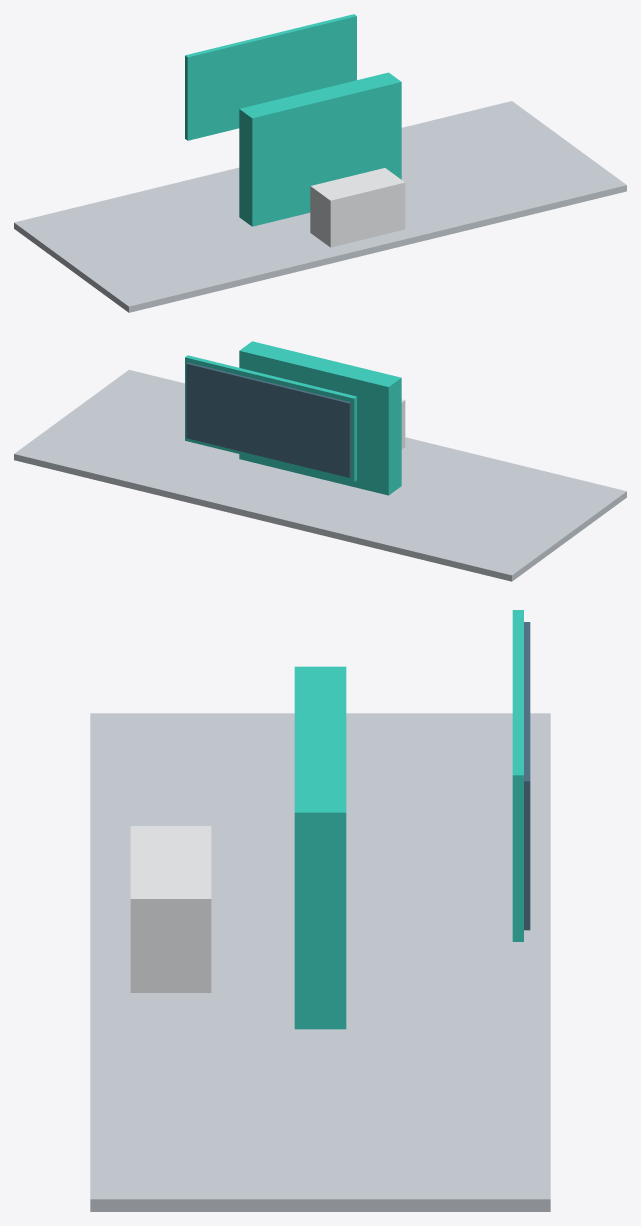
3 views of the same model, one above another, from view 1: azimuth 30°, elevation 25°; view 2: azimuth 150°, elevation 25°; view 3: azimuth 270°, elevation 25° (orthographic). The views are drawn at different scales.
Visible parts, largest first — view 1: Exhibition Booth Concept; view 2: Exhibition Booth Concept; view 3: Exhibition Booth Concept.
Part boxes in pixels (left/top/right/bottom): Exhibition Booth Concept: left=14, top=14, right=626, bottom=312; Exhibition Booth Concept: left=14, top=341, right=626, bottom=581; Exhibition Booth Concept: left=90, top=610, right=550, bottom=1211.
Size of the model in its own units: 10 by 2.65 by 4.
